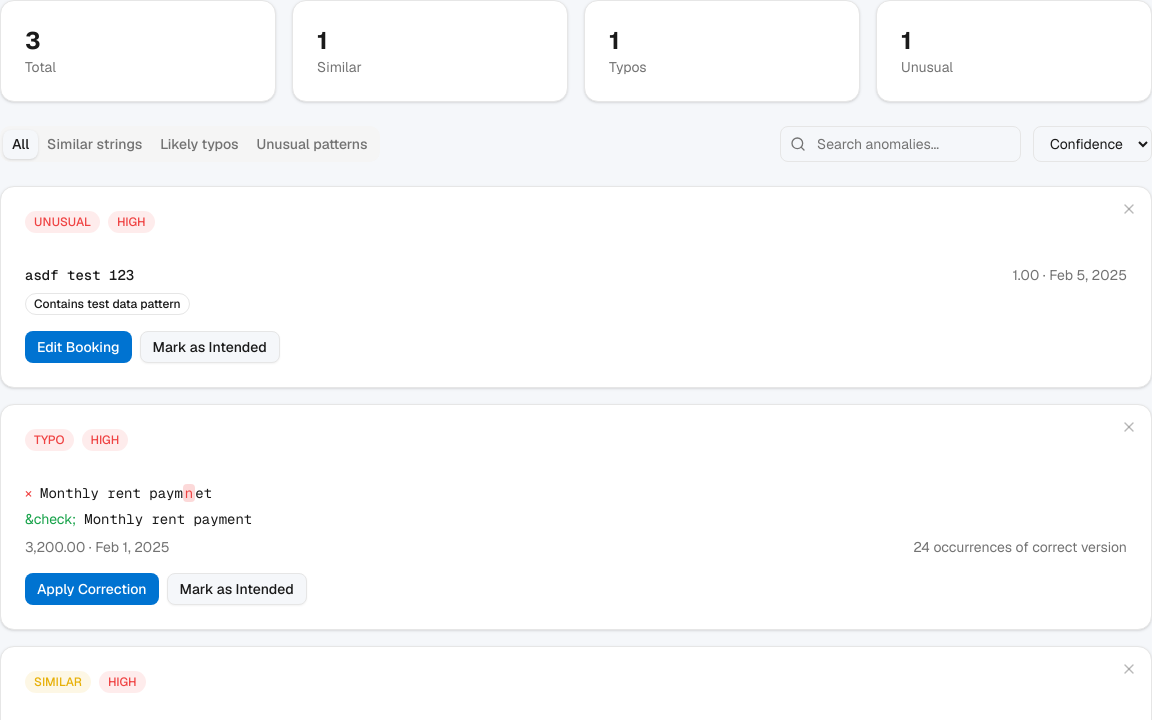
it: AnomalyList › shows all-reviewed state when all items are dismissed
Click the 1st button named "dismiss": click(1129, 209) [1115,195,1143,223]
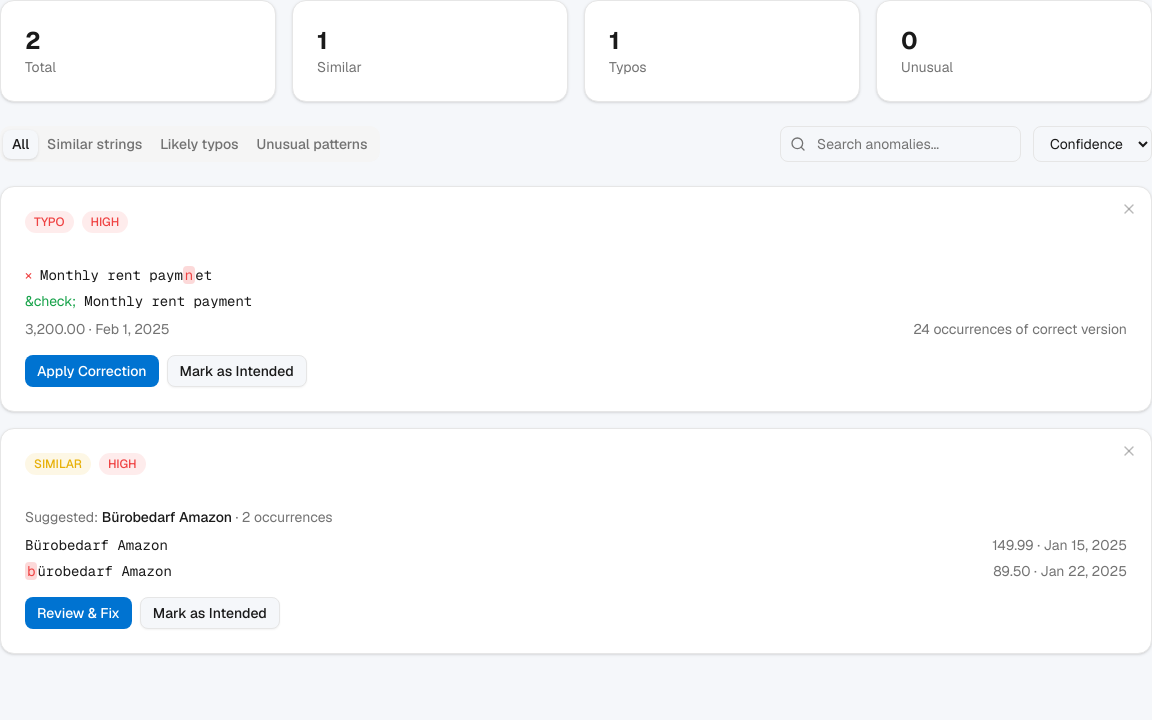
Click the 1st button named "dismiss": click(1129, 209) [1115,195,1143,223]
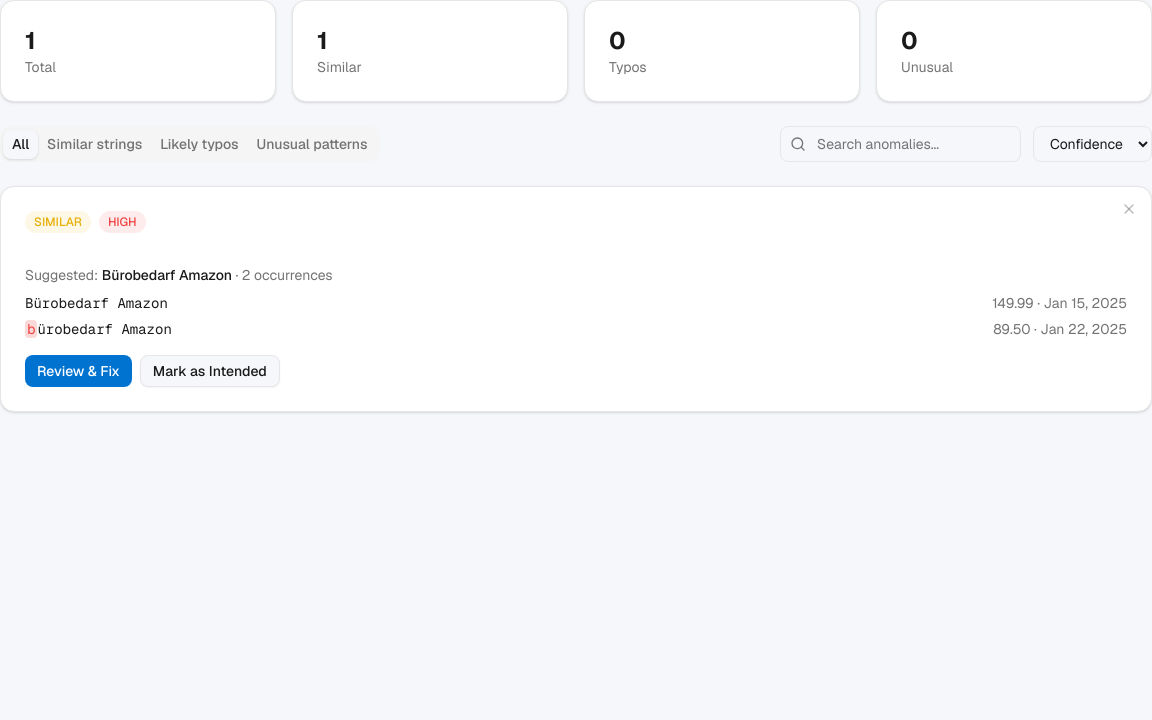
Click the button named "dismiss": click(1129, 209) [1115,195,1143,223]
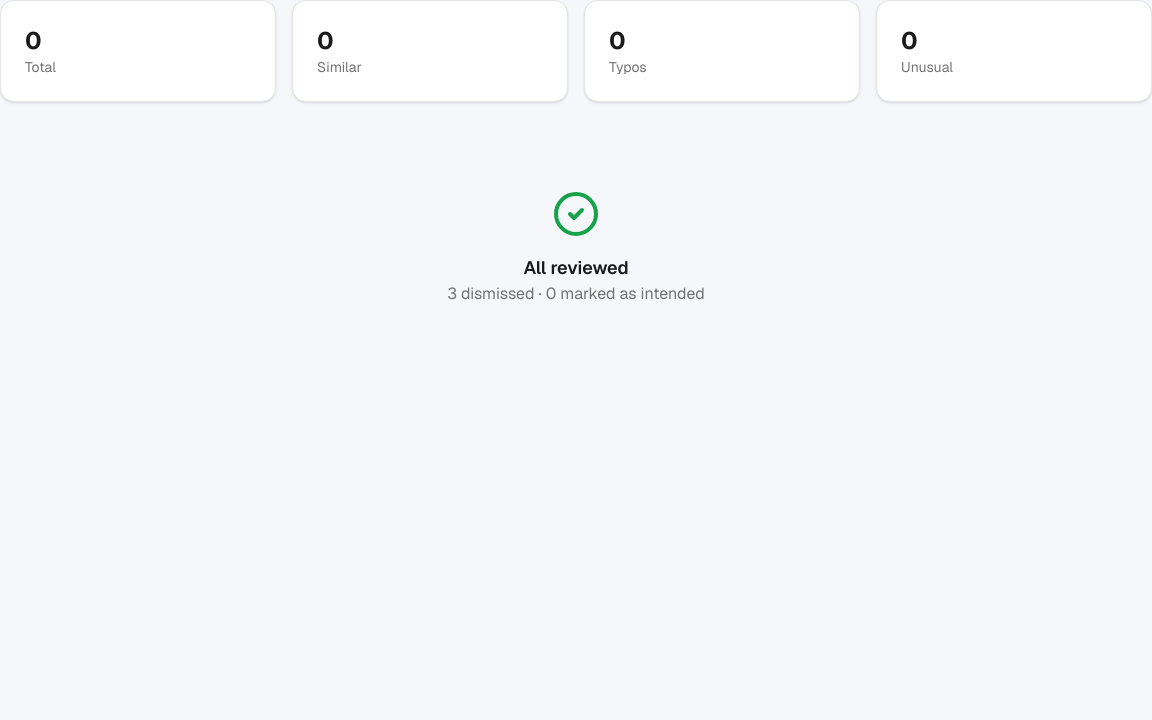
Check: the heading "All reviewed" is shown, box [523,254,629,282]
